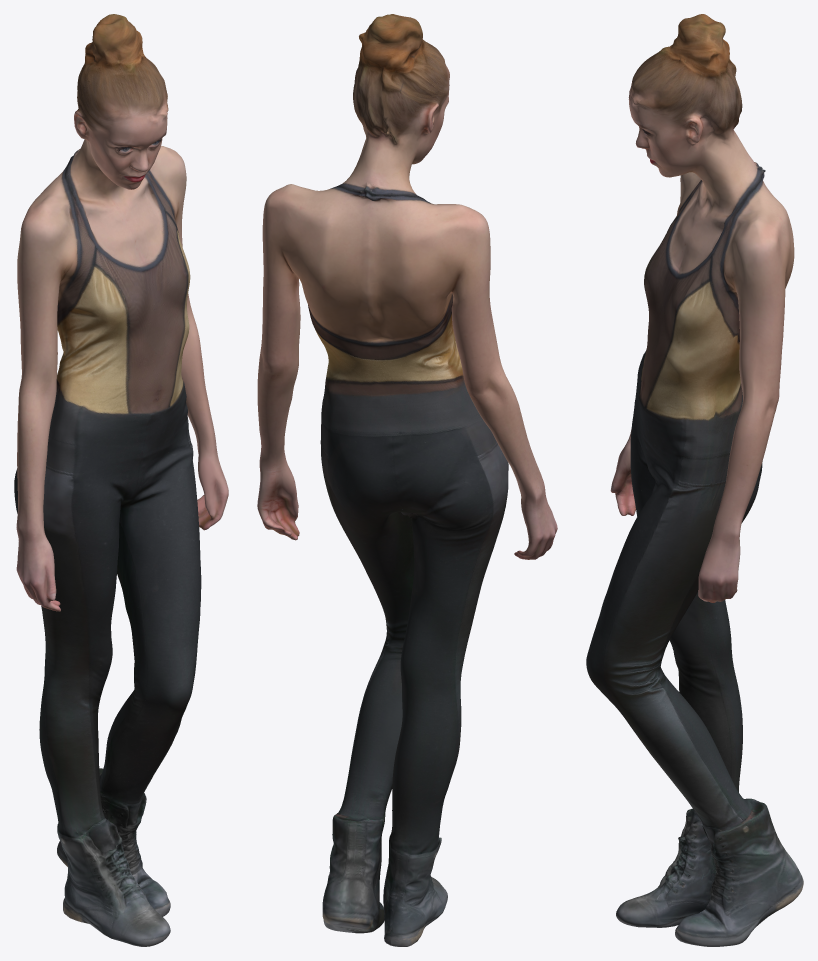
The model's file is Girl in Golden Swimsuit Shiny Legging and Boots.OBJ.
The picture shows the model from 3 angles, left to right: view 1: azimuth 30°, elevation 25°; view 2: azimuth 150°, elevation 25°; view 3: azimuth 270°, elevation 25°; orthographic projection.
Bounding box in the file's own units: 0.4833 × 1.7 × 0.3702.
